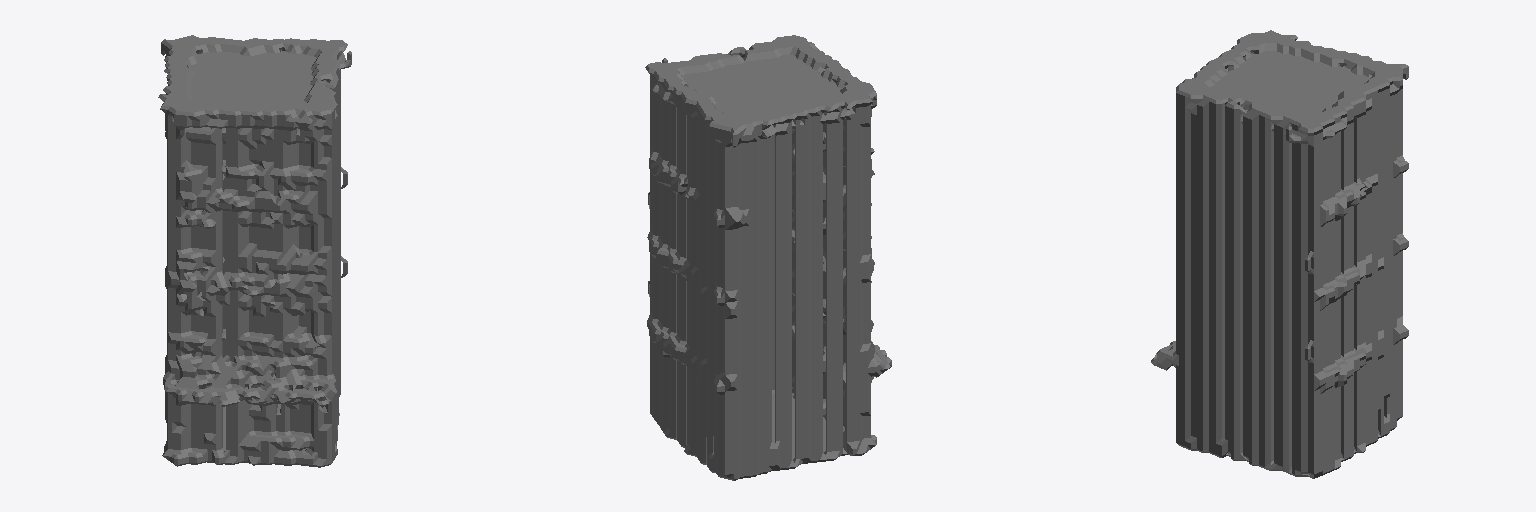
Rendered from gen6_colored.obj.
3 renders of one model, left to right at view 1: azimuth 30°, elevation 25°; view 2: azimuth 150°, elevation 25°; view 3: azimuth 270°, elevation 25°, orthographic.
Parts seen in each view (by area): view 1: gen6.obj; view 2: gen6.obj; view 3: gen6.obj.
Boxes of the visible parts, <box> form: gen6.obj: <box>158,35,351,467</box>; gen6.obj: <box>645,35,891,480</box>; gen6.obj: <box>1151,30,1408,478</box>.
Bounding box in the file's own units: 40 × 64 × 42.